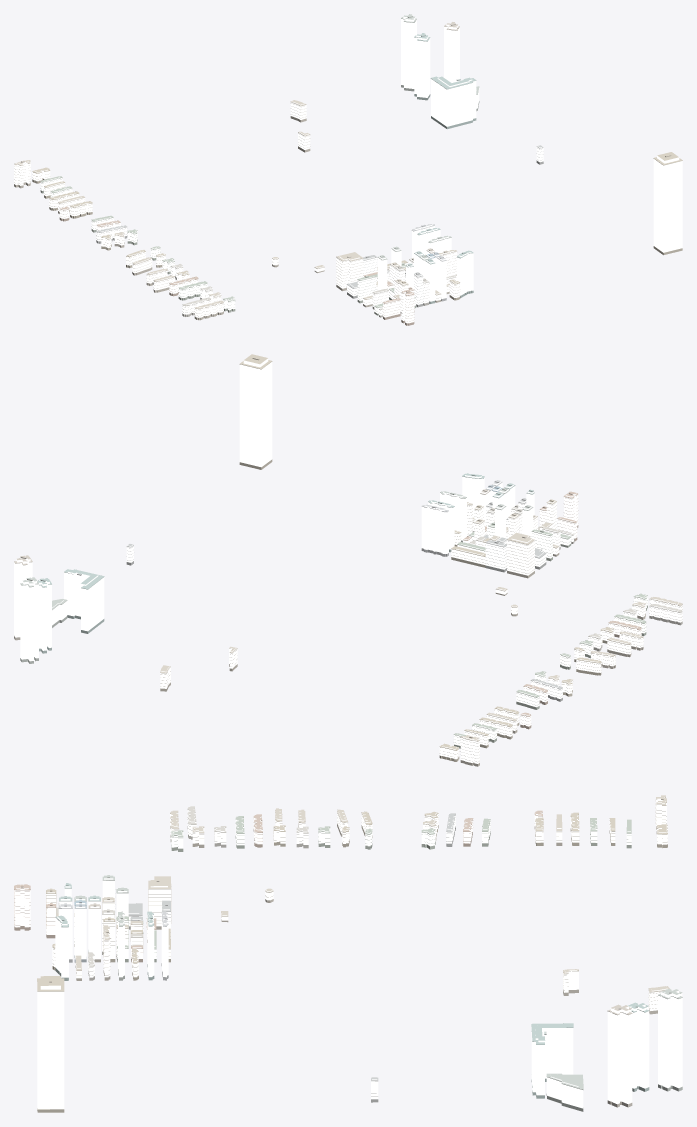
Rendered from buildings-4_1-fine.glb.
3 views of the same model, one above another, from view 1: azimuth 30°, elevation 25°; view 2: azimuth 150°, elevation 25°; view 3: azimuth 270°, elevation 25° (orthographic). The views are drawn at different scales.
Visible parts, largest first — view 1: block_4_1_office, block_4_1_residential, block_4_1_roof, block_4_1_darkglass, block_4_1_concrete; view 2: block_4_1_office, block_4_1_residential, block_4_1_roof, block_4_1_darkglass, block_4_1_concrete; view 3: block_4_1_office, block_4_1_residential, block_4_1_roof, block_4_1_darkglass, block_4_1_concrete.
Boxes of the visible parts, x1,y1,x2,y2 form: block_4_1_office: [377, 15, 682, 301]; block_4_1_residential: [14, 101, 543, 323]; block_4_1_roof: [14, 14, 682, 318]; block_4_1_darkglass: [14, 85, 682, 325]; block_4_1_concrete: [14, 102, 542, 316]; block_4_1_office: [14, 358, 534, 661]; block_4_1_residential: [126, 493, 682, 763]; block_4_1_roof: [14, 354, 682, 754]; block_4_1_darkglass: [14, 459, 682, 766]; block_4_1_concrete: [127, 494, 682, 761]; block_4_1_office: [37, 878, 682, 1109]; block_4_1_residential: [14, 797, 667, 1099]; block_4_1_roof: [14, 795, 682, 1109]; block_4_1_darkglass: [14, 823, 682, 1112]; block_4_1_concrete: [14, 797, 667, 1096].
Size of the model in its own units: 669 by 136 by 650.
